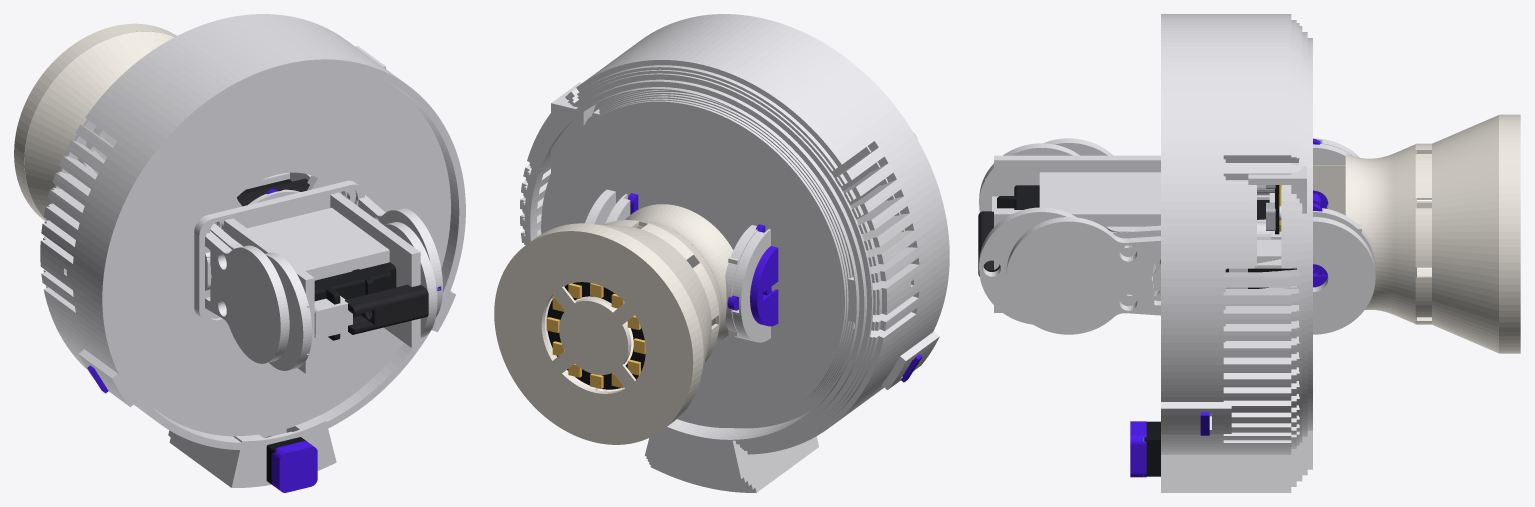
The model's file is hotaru2-rig.glb.
3 renders of one model, left to right at view 1: azimuth 30°, elevation 25°; view 2: azimuth 150°, elevation 25°; view 3: azimuth 270°, elevation 25°, orthographic. The views are drawn at different scales.
Parts seen in each view (by area): view 1: v2-disc, v2-tub, shade, v2-tower, v2-link2-in, v2-head, v2-link1-out, v2-link1-ledges, v2-keycap, v2-link2-out, el-mg996r-body, v2-link1-in (+3 smaller); view 2: v2-tub, v2-conecap, shade, v2-link2-in, ring-leds, v2-trimcap, ring-pcb, v2-link1-out, v2-link2-out, v2-disc; view 3: v2-tub, shade, v2-link2-out, v2-tower, v2-link1-in, v2-head, v2-link1-out, v2-conecap, v2-keycap, v2-link2-in, mx-mx-upper, v2-link1-ledges (+1 smaller).
Part boxes in pixels (<box>): v2-disc: <box>109,66,450,436</box>; v2-tub: <box>40,14,465,487</box>; shade: <box>17,26,176,220</box>; v2-tower: <box>194,180,420,373</box>; v2-link2-in: <box>205,231,289,363</box>; v2-head: <box>229,207,389,338</box>; v2-link1-out: <box>210,223,312,370</box>; v2-link1-ledges: <box>345,284,428,334</box>; v2-keycap: <box>272,441,317,492</box>; v2-link2-out: <box>358,195,442,316</box>; el-mg996r-body: <box>314,265,391,337</box>; v2-link1-in: <box>289,172,437,337</box>; v2-tub: <box>520,14,949,492</box>; v2-conecap: <box>494,229,696,444</box>; shade: <box>532,204,738,425</box>; v2-link2-in: <box>732,229,770,342</box>; ring-leds: <box>546,283,645,388</box>; v2-trimcap: <box>750,246,778,326</box>; ring-pcb: <box>547,282,645,389</box>; v2-link1-out: <box>725,133,917,339</box>; v2-link2-out: <box>585,189,615,224</box>; v2-disc: <box>831,152,878,323</box>; v2-tub: <box>1161,14,1312,492</box>; shade: <box>1313,114,1513,353</box>; v2-link2-out: <box>1006,217,1375,334</box>; v2-tower: <box>992,155,1160,312</box>; v2-link1-in: <box>979,207,1375,324</box>; v2-head: <box>1039,172,1160,305</box>; v2-link1-out: <box>979,143,1351,212</box>; v2-conecap: <box>1514,114,1520,353</box>; v2-keycap: <box>1130,421,1146,477</box>; v2-link2-in: <box>1044,138,1359,157</box>; mx-mx-upper: <box>1144,421,1160,476</box>; v2-link1-ledges: <box>978,211,1000,276</box>.
Size of the model in its own units: 162 by 178 by 200.
